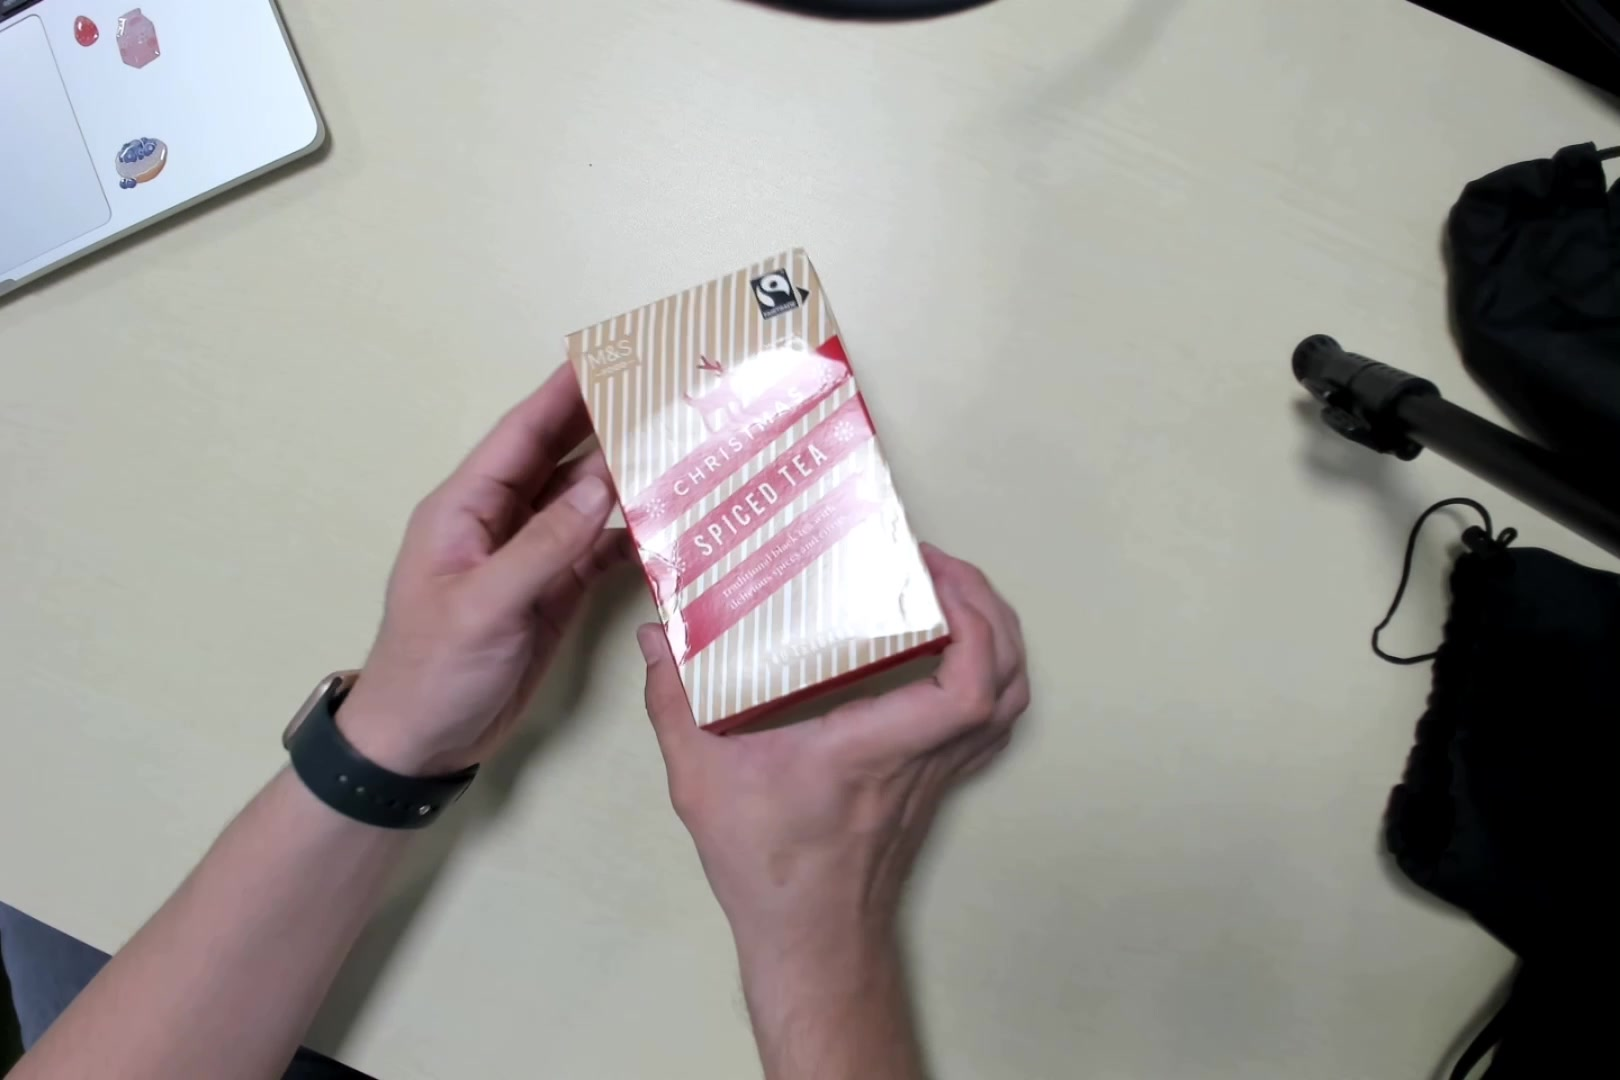Tea(PowderLeaves)_100-199g_Halal_NonHealthy: (577, 253, 961, 717)
